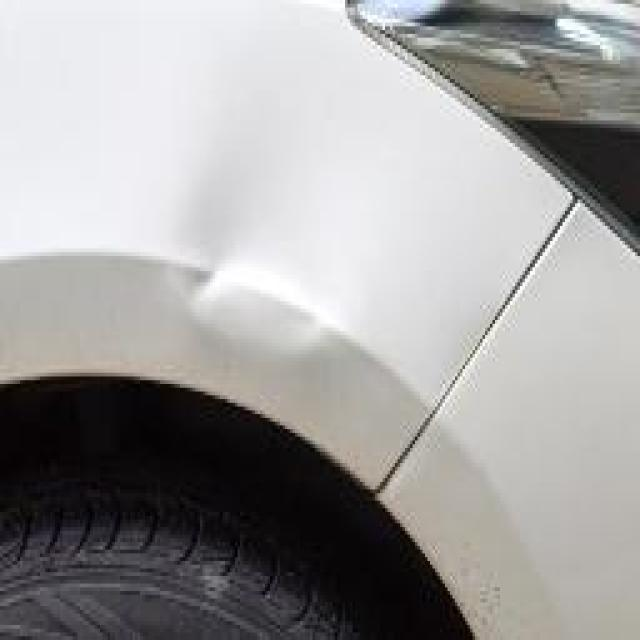Fender: (132, 181, 400, 467)
